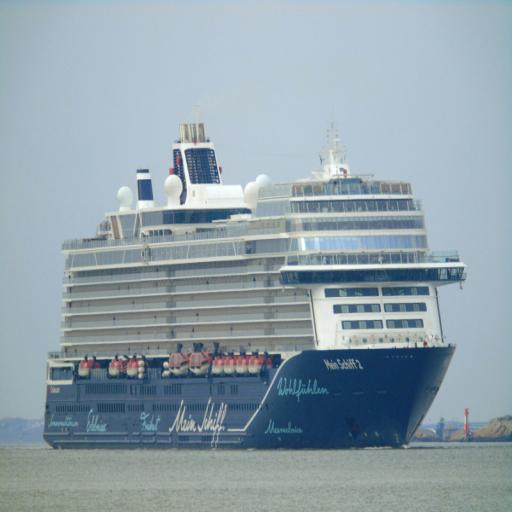cruises: (35, 122, 471, 459)
